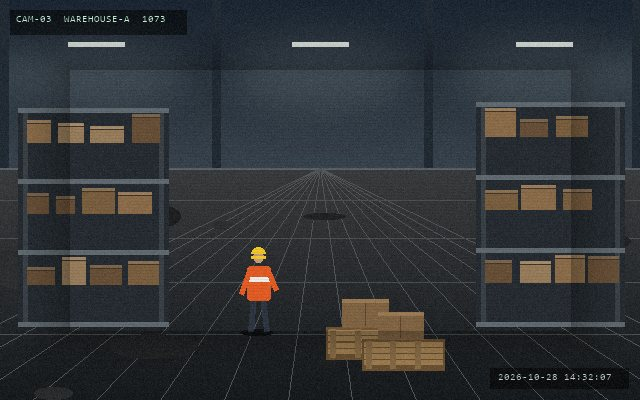pallet: (324, 325, 412, 361), (360, 337, 446, 372)
person: (239, 245, 278, 334)
shelf: (476, 102, 624, 322), (18, 108, 168, 322)
